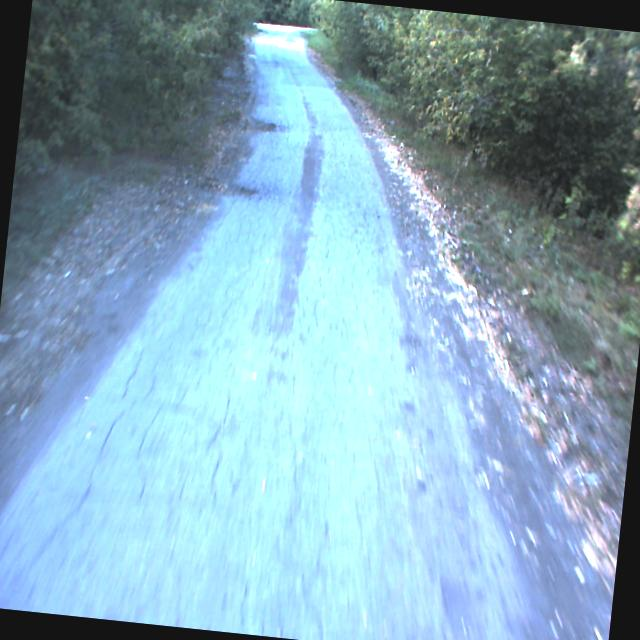road: (0, 22, 543, 640)
